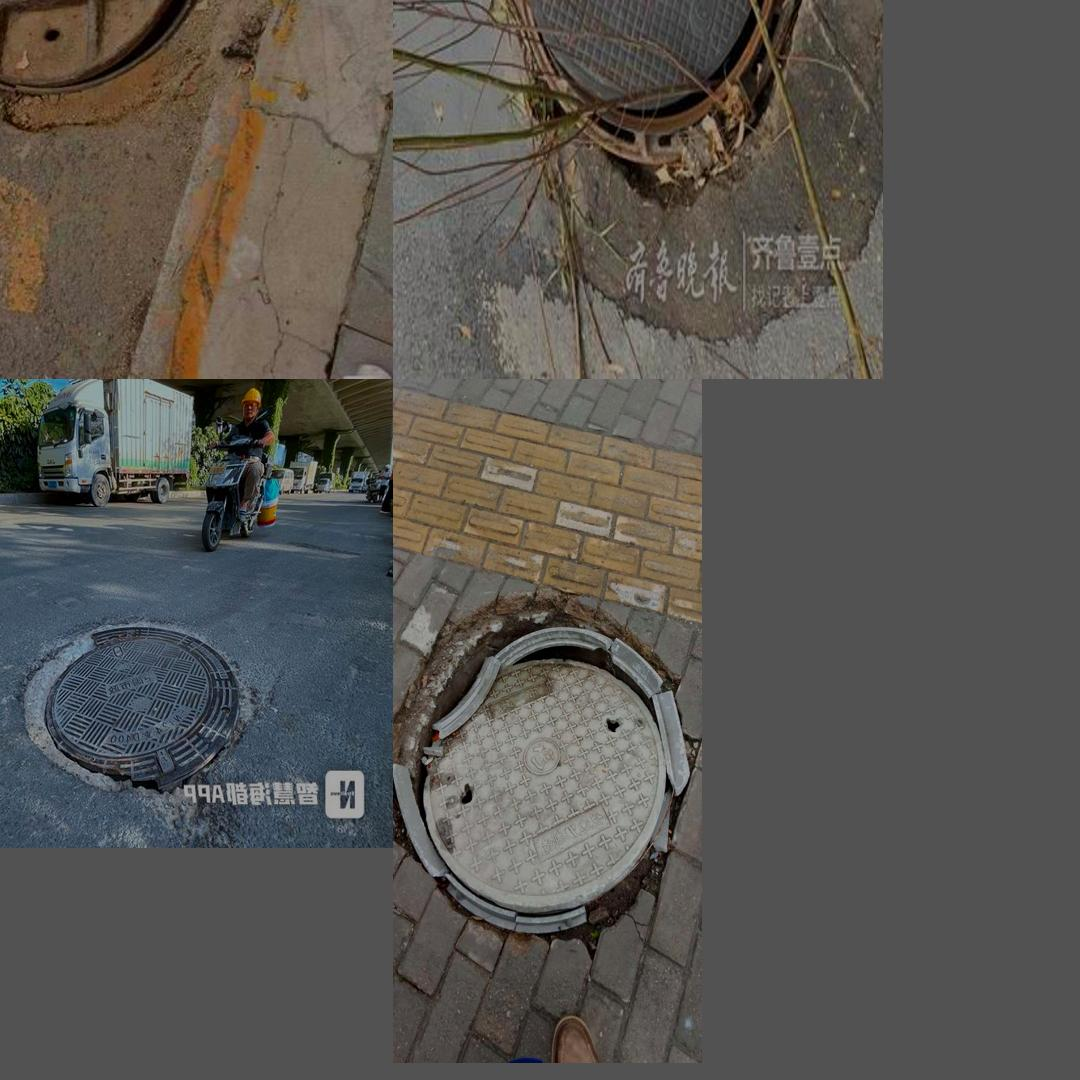circle: (441, 0, 876, 324), (394, 592, 697, 951), (0, 598, 281, 812), (0, 0, 319, 173)
